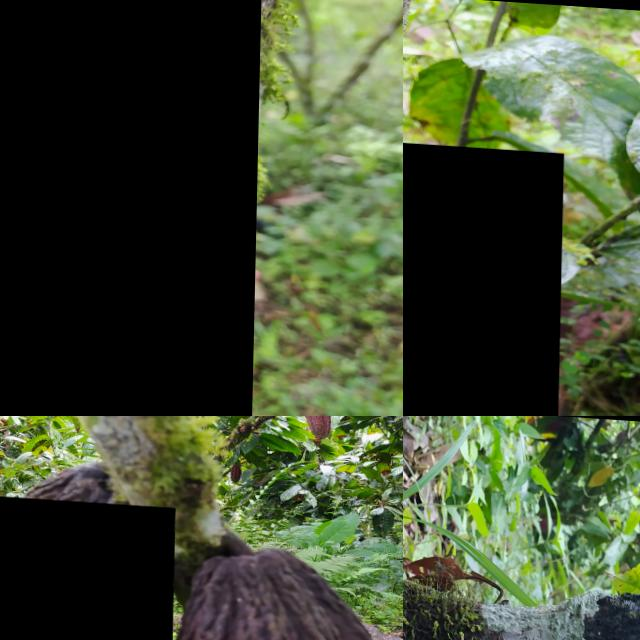Fitoftora: (0, 0, 263, 416), (403, 128, 564, 416), (0, 491, 176, 640), (168, 539, 403, 640)
Sana: (303, 416, 333, 435)
